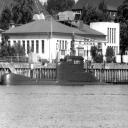submarine: (2, 41, 115, 86)
